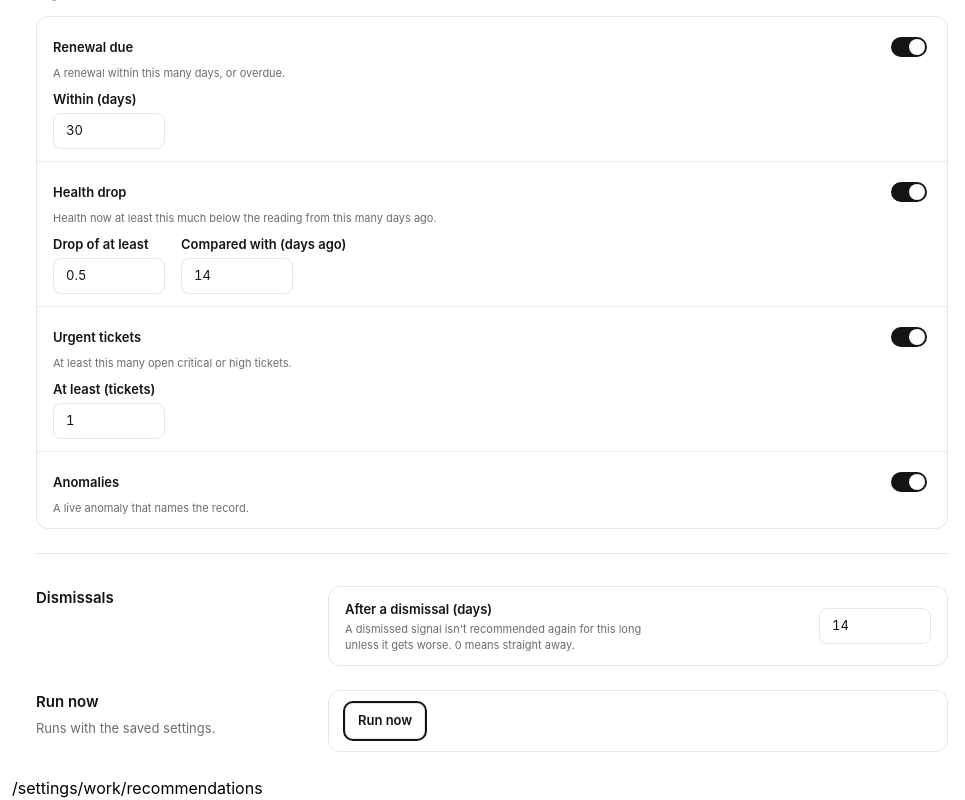
Test case: Settings › Work › Recommendations: final wave › a double press on Run now while it runs sends one run, and keeps focus on it
(page scrolled)
Click the button "Run now" at x=385, y=721, box [345,703,425,739]
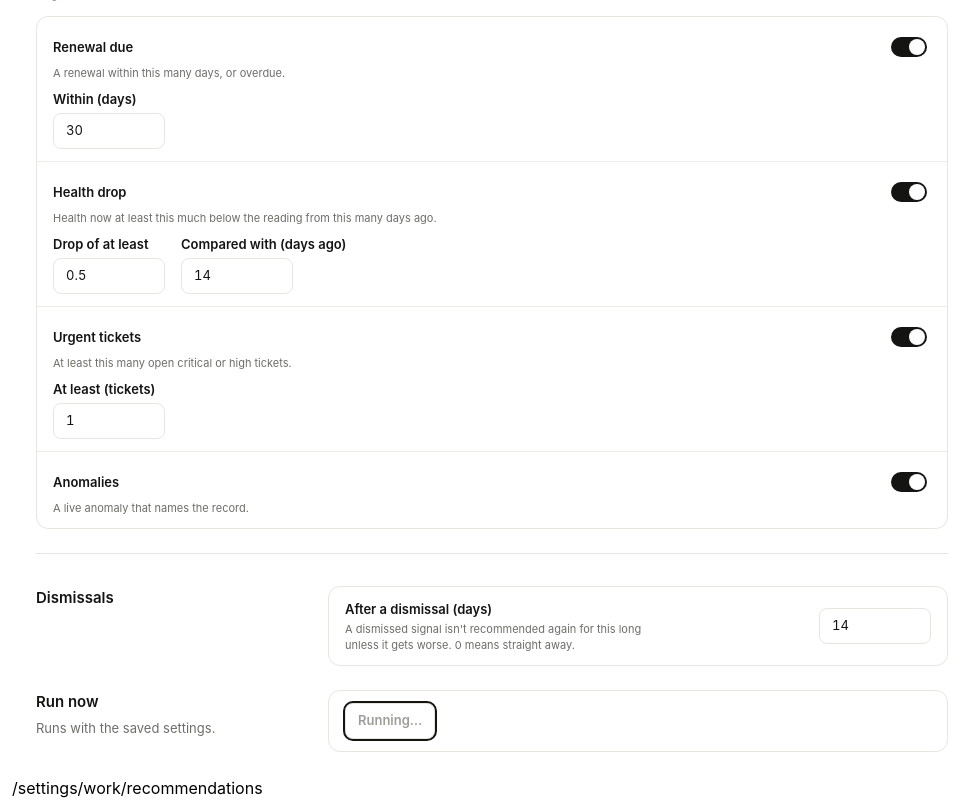
Expected: the button named "Run now" is disabled
Click the button named "Run now" at x=390, y=721, box [345,703,435,739]
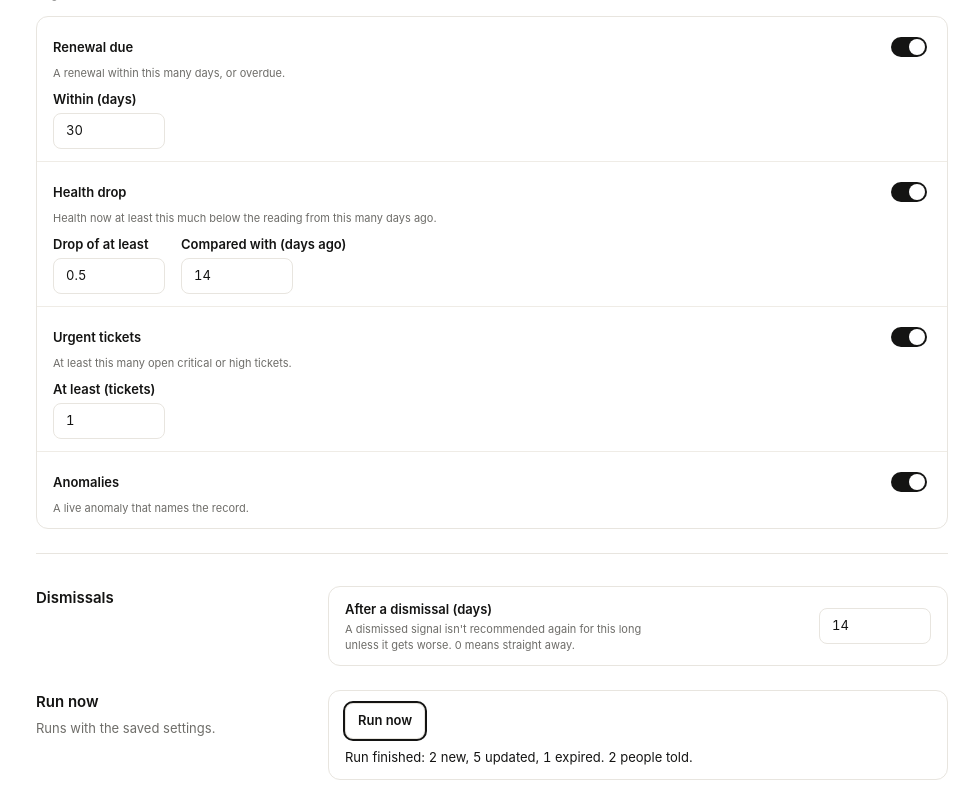
Expected: the text "Run finished: 2 new, 5 updated, 1 expired. 2 people told." is shown, [345,749,693,765]
